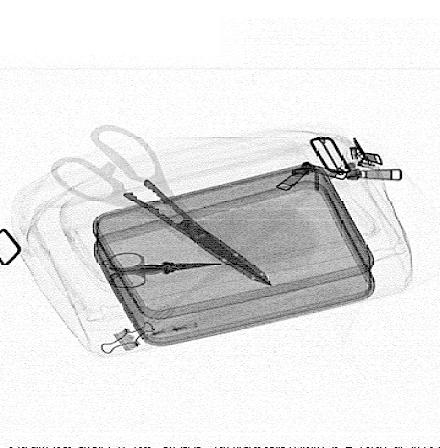Scissors: (49, 123, 275, 287)
